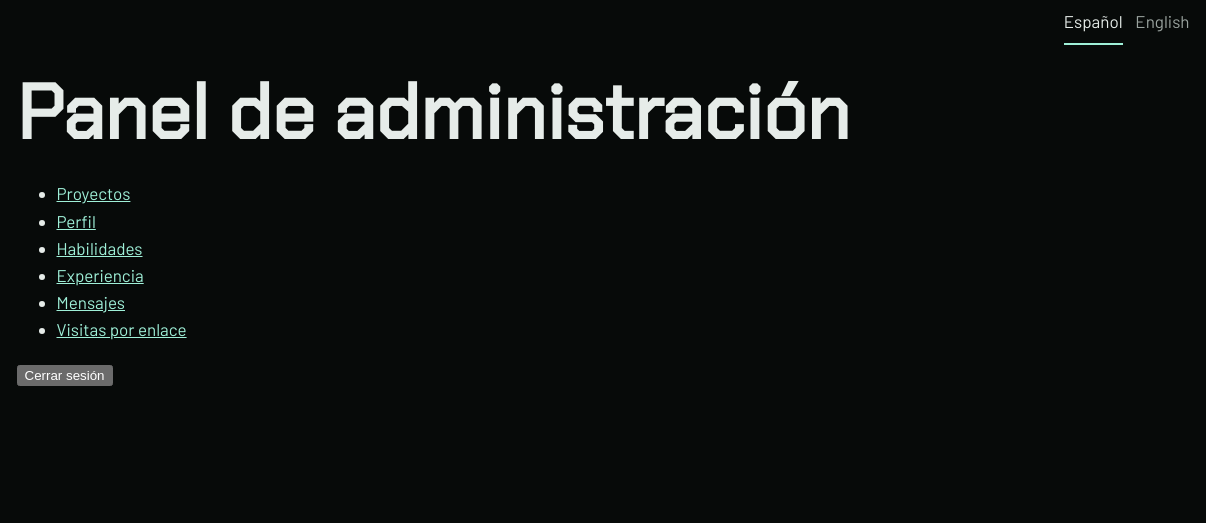
Test case: admin panel: profile, skills and experience › the admin panel home links to profile, skills and experience
The image size is (1206, 523).
Click the link "Habilidades" at {"x": 100, "y": 248}, box [56, 238, 142, 258]
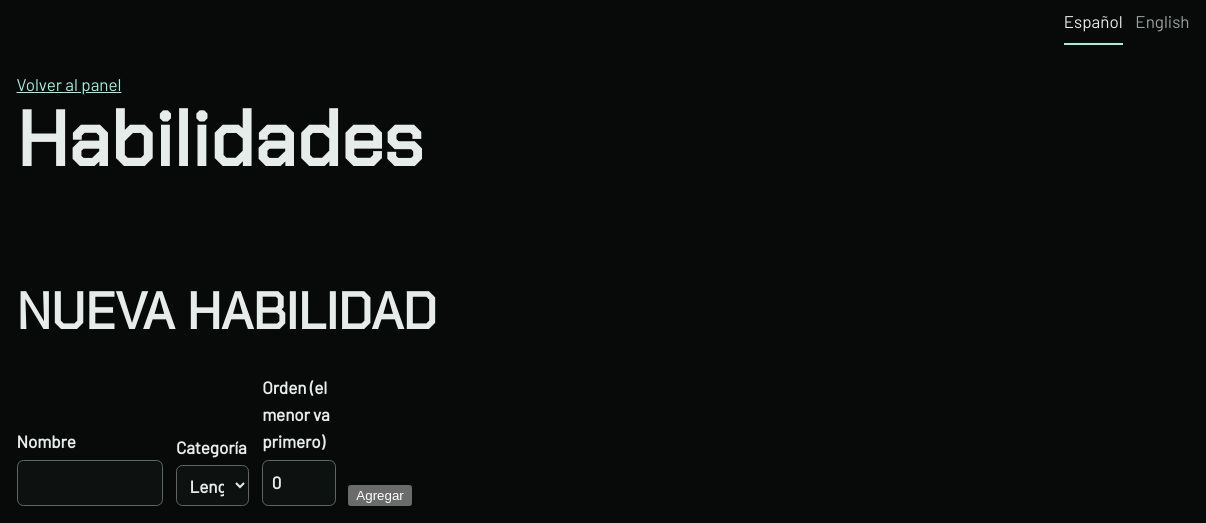
Expected: the heading "Habilidades" is shown, [16, 90, 423, 190]
